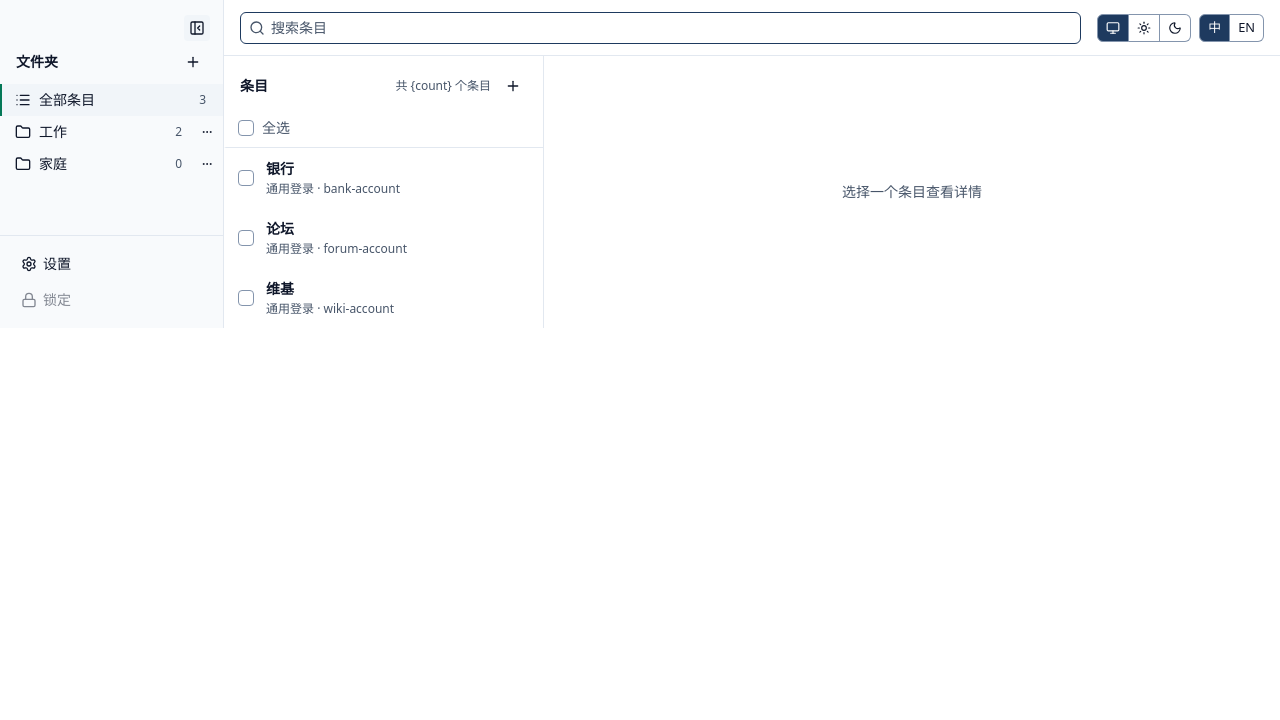
新建文件夹时重名与取消 › 取消不创建
This screenshot has width=1280, height=720.
Click the button named "新建文件夹": (193, 62) [179,48,207,76]
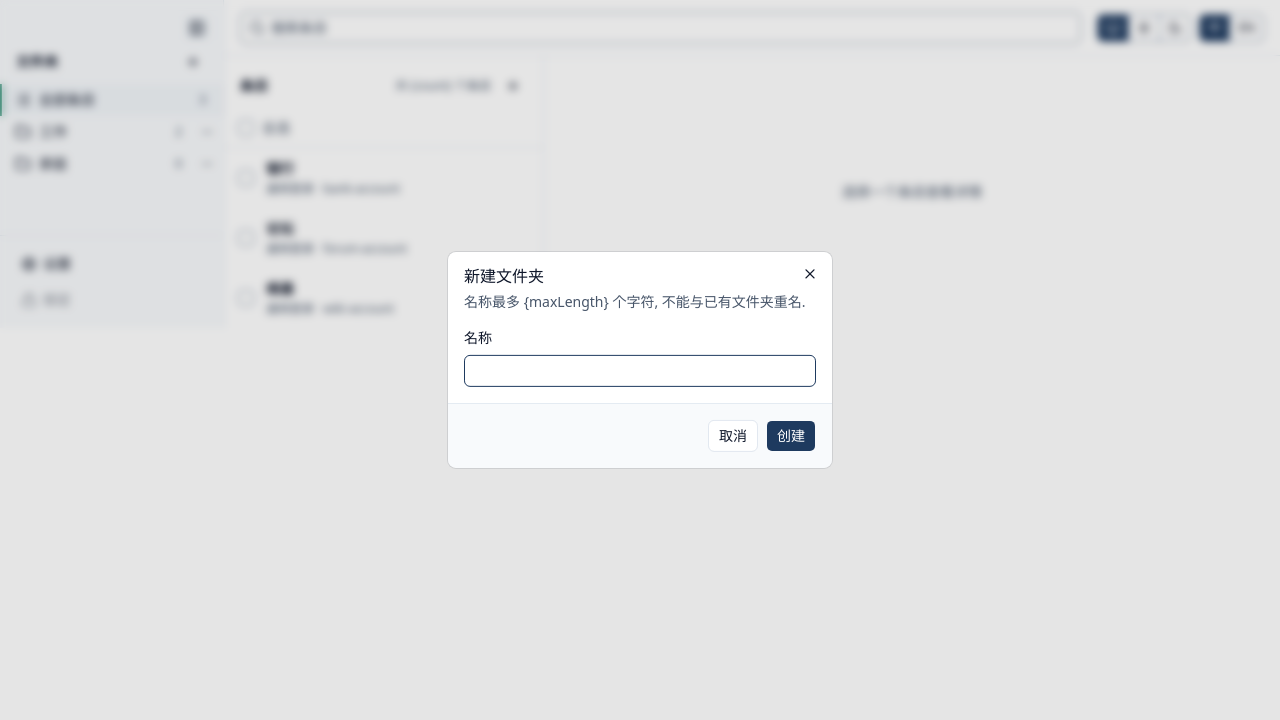
Click the button "取消": (733, 436) [708,420,758,452]
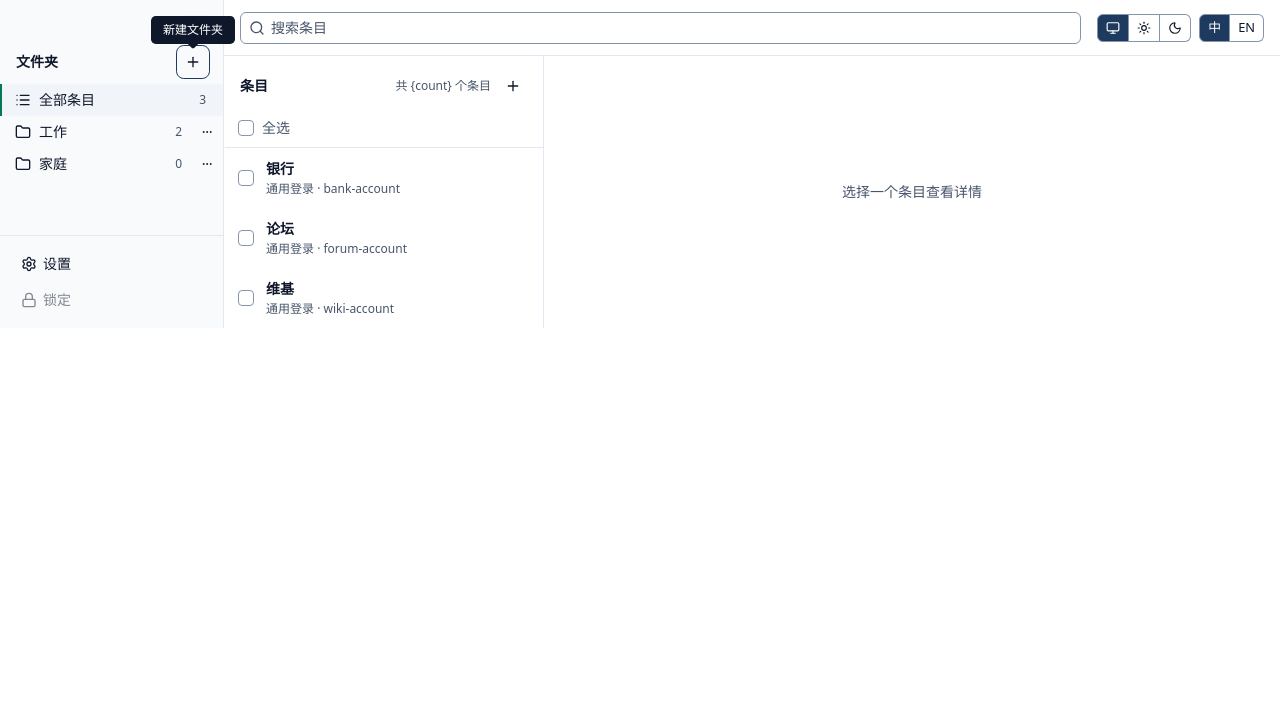
Expected: the dialog is gone
